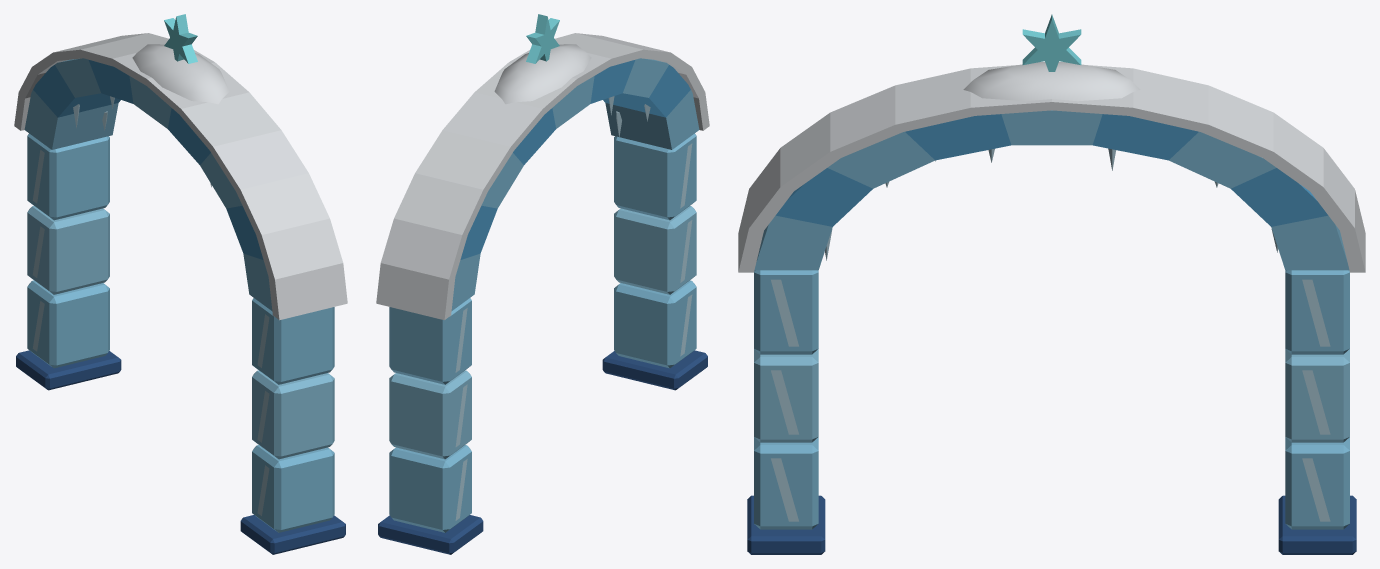
Rendered from ice-exit.glb.
3 renders of one model, left to right at view 1: azimuth 30°, elevation 25°; view 2: azimuth 150°, elevation 25°; view 3: azimuth 270°, elevation 25°, orthographic. The views are drawn at different scales.
Parts seen in each view (by area): view 1: ice-exit; view 2: ice-exit; view 3: ice-exit.
Boxes of the visible parts, x1,y1,x2,y2 form: ice-exit: (14,14,347,554); ice-exit: (376,14,709,554); ice-exit: (738,14,1365,554).
Bounding box in the file's own units: 0.8 × 4.41 × 4.84.
